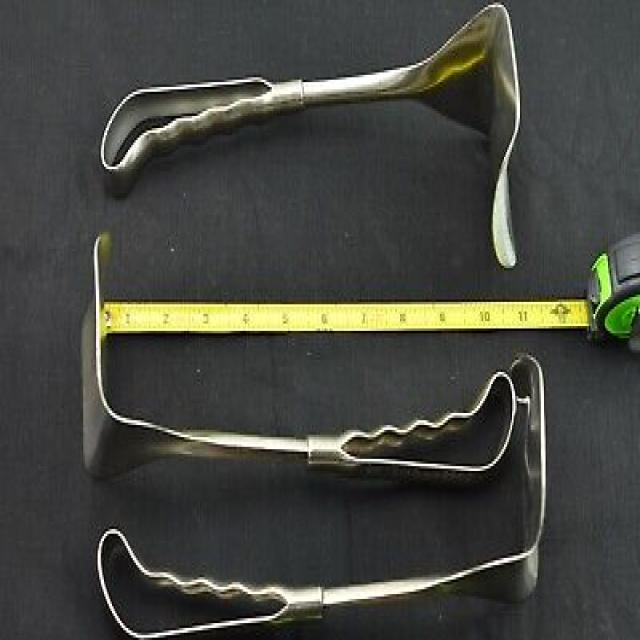Kelly Retractor: (89, 375, 592, 640), (99, 0, 538, 270), (64, 251, 516, 492)
